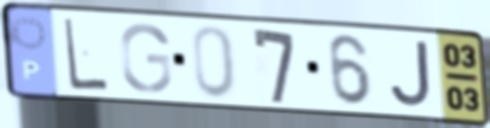0: (189, 23, 240, 102)
6: (325, 32, 375, 108)
7: (250, 24, 297, 106)
G: (117, 21, 174, 95)
J: (388, 39, 435, 110)
L: (61, 15, 112, 93)
